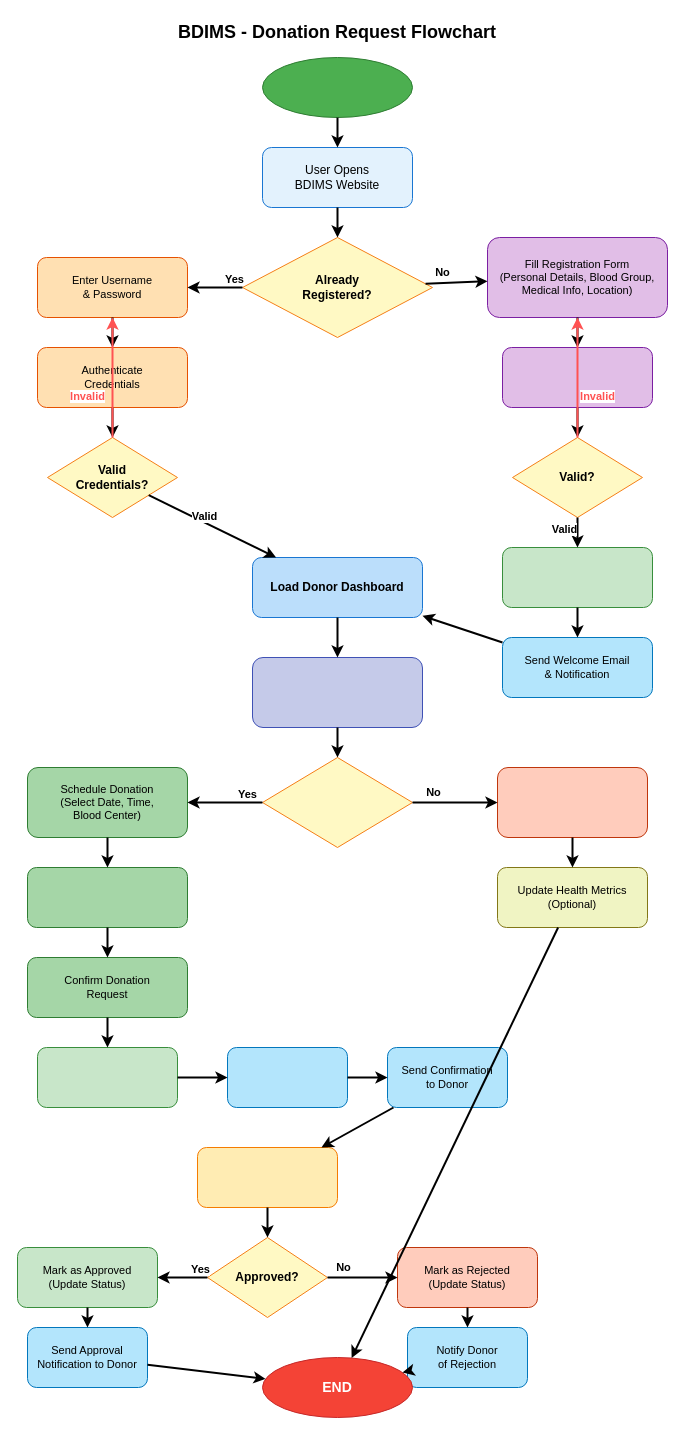
The diagram is 685 pixels wide and 1435 high, and some of its shapes have lost their labels. The centre of each missing label's shape, as x and y in pixels:
"Admin Reviews Donation Request" goes at point 267,1177.
"Check Eligibility Status (56-day rule, Age, Weight, Health)" goes at point 337,692.
"Choose Blood Donation Center" goes at point 107,897.
"Create User Account & Donor Profile" goes at point 577,577.
"Display Ineligibility Reason & Next Eligible Date" goes at point 572,802.
"Eligible to Donate?" goes at point 337,802.
"Notify Admin for Approval" goes at point 287,1077.
"Save Request to Database" goes at point 107,1077.
"START" goes at point 337,87.
"Validate Registration Data" goes at point 577,377.
